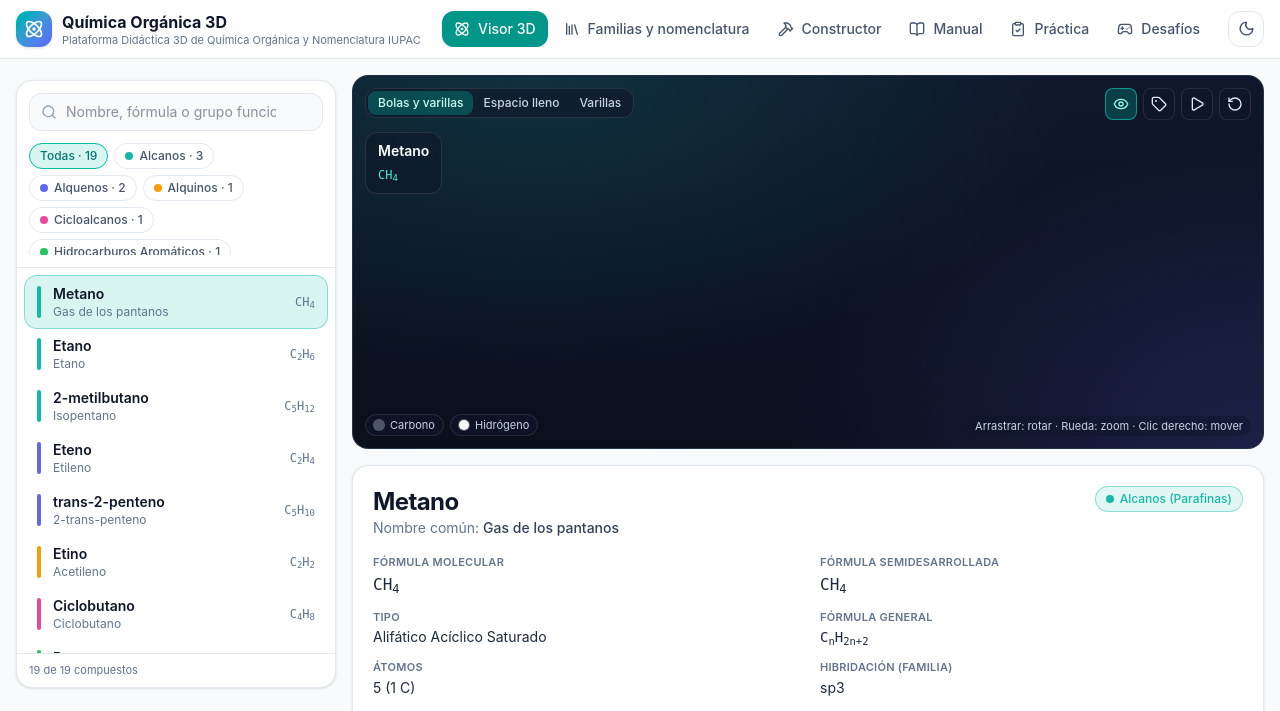
it: Módulo B · Familias y nomenclatura › la teoría muestra el algoritmo, los prefijos y la jerarquía del JSON
The image size is (1280, 711).
Step 1. Click the button "Familias y nomenclatura" → [657, 29], box [552,11,762,47]
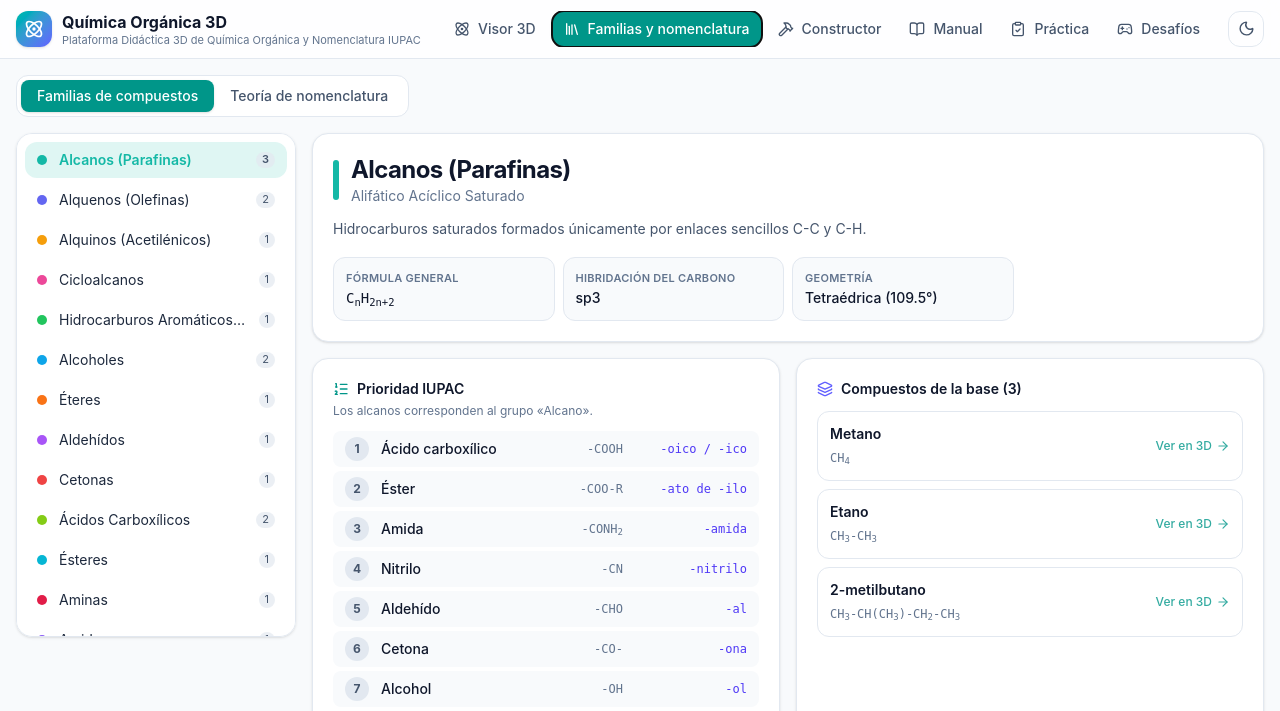
Step 2. Click the button "Teoría de nomenclatura" → [309, 96], box [214,80,404,112]
(page scrolled)
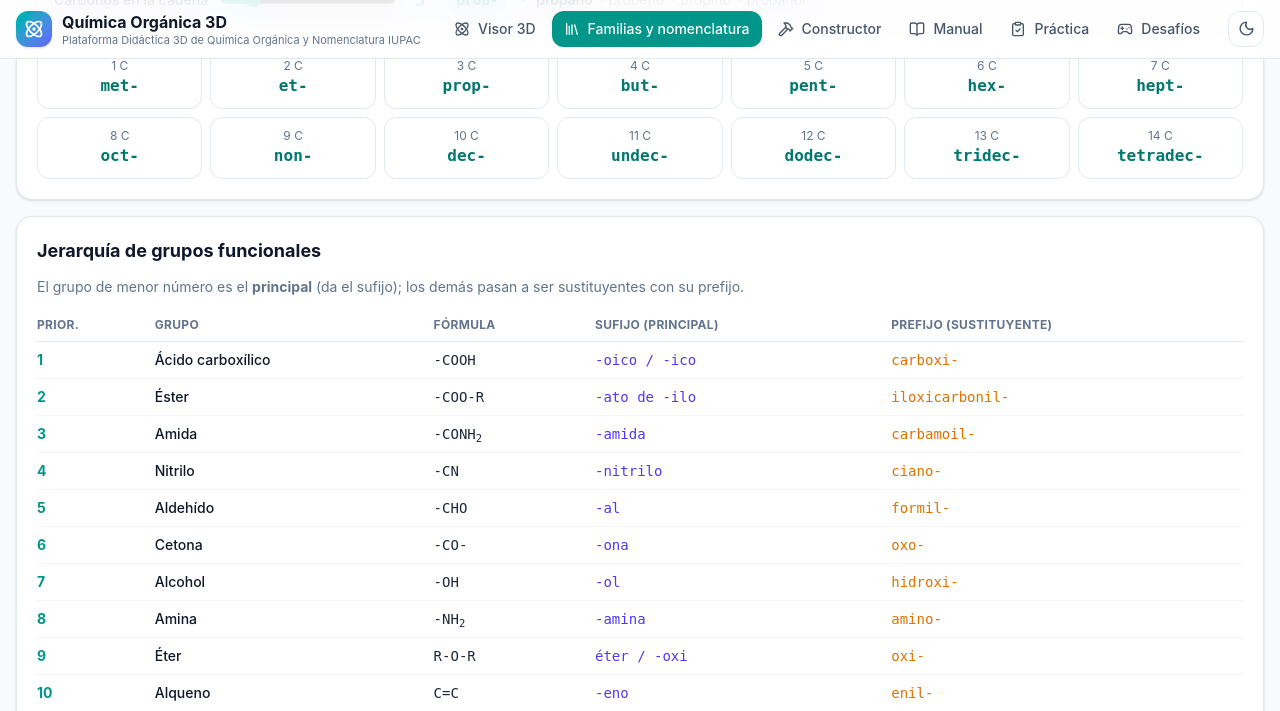
Check: the text "tetradec-" is shown, box [1117,146,1204,165]
Check: the number of rows is 13
Check: the text "carboxi-" is shown, box [891,342,1243,379]
